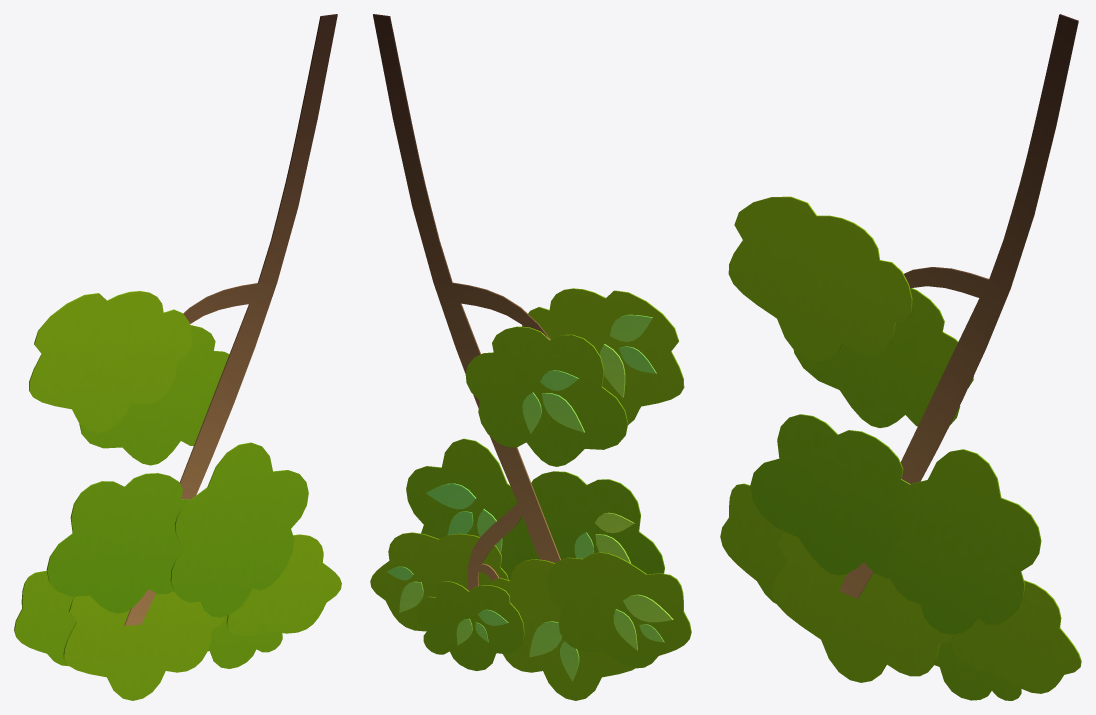
File: obj-boom-7.FBX
3 renders of one model, left to right at view 1: azimuth 30°, elevation 25°; view 2: azimuth 150°, elevation 25°; view 3: azimuth 330°, elevation 25°, orthographic. The views are drawn at different scales.
Parts seen in each view (by area): view 1: boom 7; view 2: boom 7; view 3: boom 7.
Part boxes in pixels (left/top/right/bottom): boom 7: left=14, top=14, right=341, bottom=700; boom 7: left=370, top=14, right=691, bottom=700; boom 7: left=720, top=14, right=1081, bottom=700.
Bounding box in the file's own units: 11.6 × 21.85 × 0.3646.
Materials: 1 (1 with a texture image).
